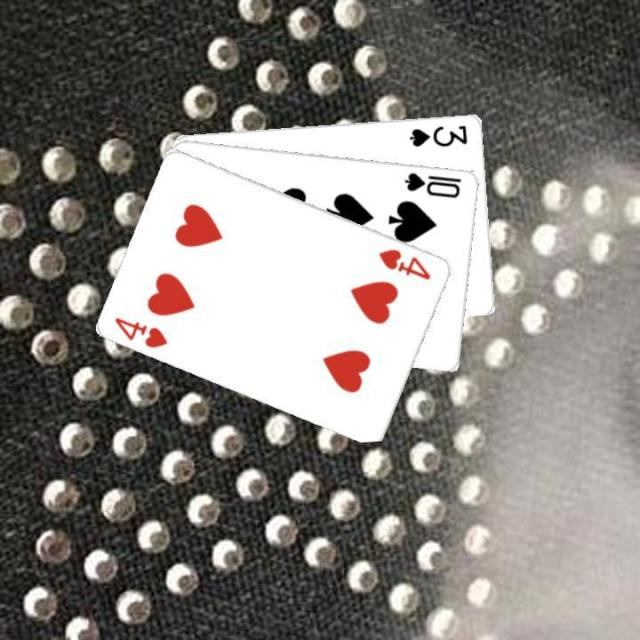10S: (401, 168, 464, 199)
3S: (406, 120, 469, 148)
4H: (375, 244, 433, 282), (111, 313, 170, 350)
